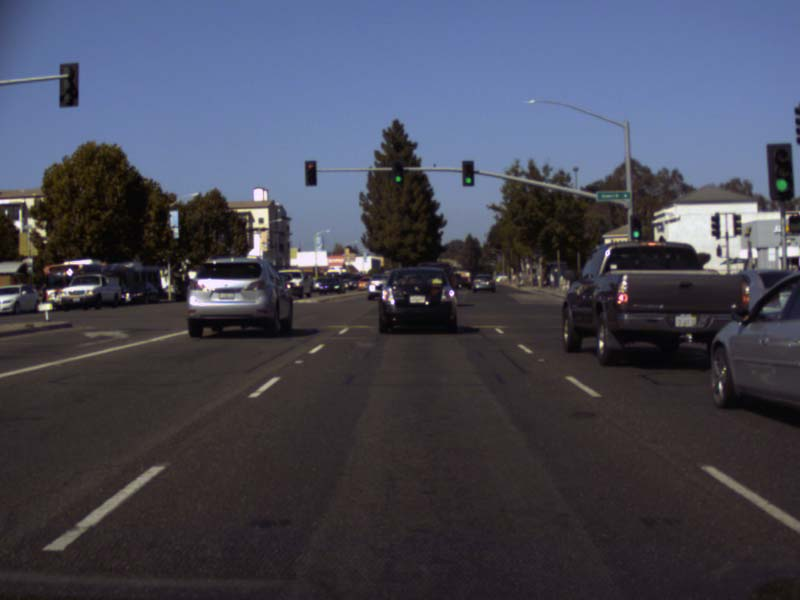Green: (766, 145, 793, 199), (461, 160, 474, 185), (630, 214, 642, 239), (392, 159, 403, 184)
Red: (304, 160, 317, 186)
